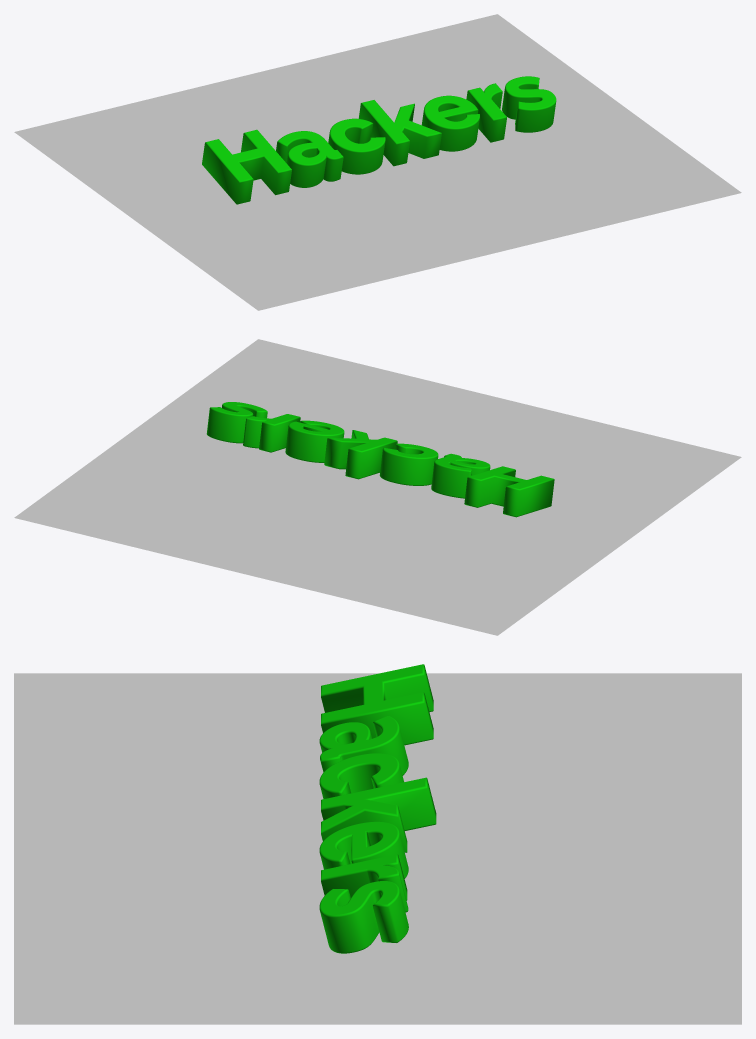
Rendered from hackers7.obj.
3 renders of one model, top to bottom at view 1: azimuth 30°, elevation 25°; view 2: azimuth 150°, elevation 25°; view 3: azimuth 270°, elevation 25°, orthographic. The views are drawn at different scales.
Parts seen in each view (by area): view 1: Plane, Hackers; view 2: Plane, Hackers; view 3: Plane, Hackers.
Part boxes in pixels (bbox=[...]): Plane: bbox=[14, 14, 741, 310]; Hackers: bbox=[202, 76, 556, 204]; Plane: bbox=[14, 339, 741, 635]; Hackers: bbox=[206, 402, 554, 517]; Plane: bbox=[14, 673, 741, 1024]; Hackers: bbox=[319, 664, 436, 953].
Size of the model in its own units: 6.34 by 0.6001 by 5.55.
